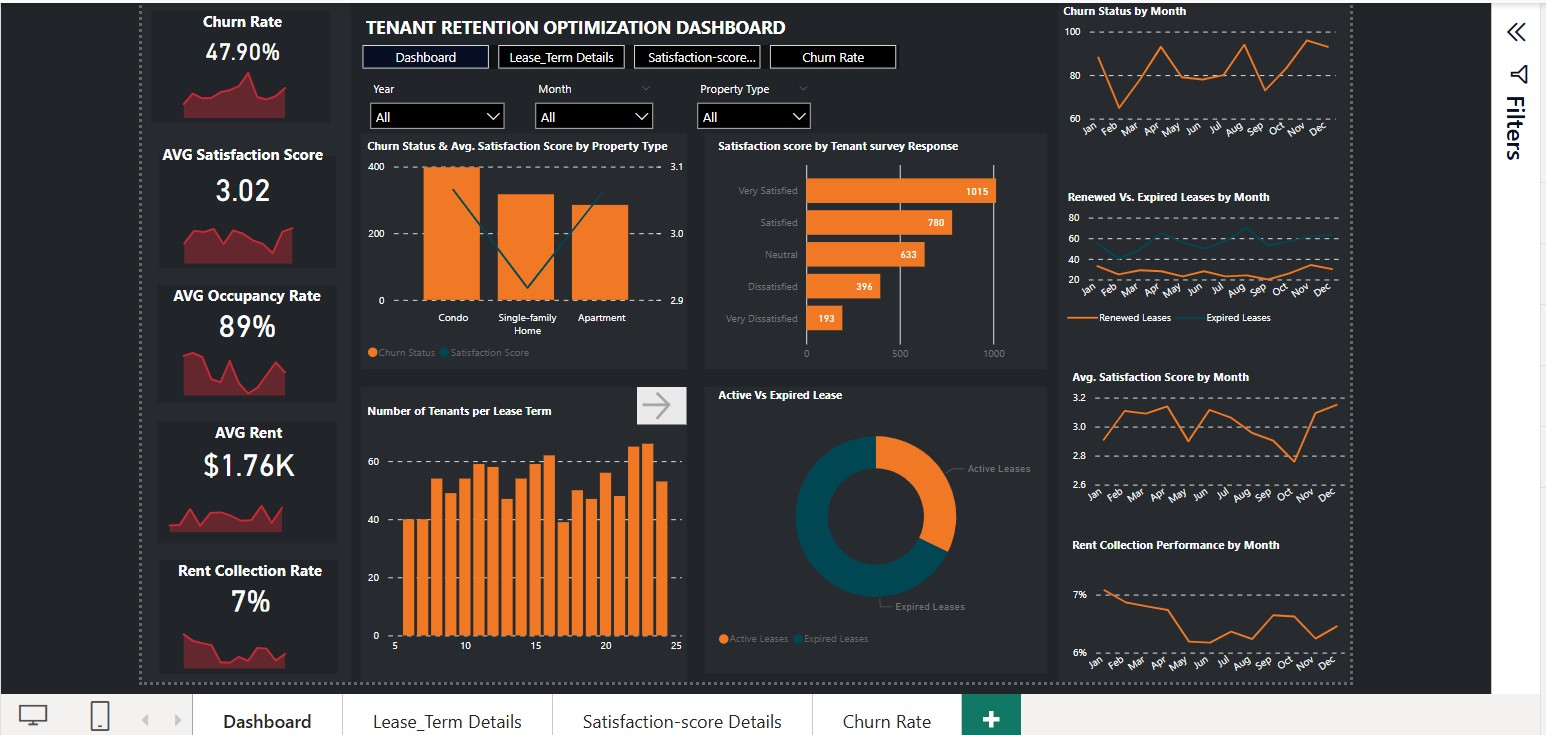

This screenshot's page, from the dashboard's own definition file:
{"tool":"powerbi","page":{"name":"Dashboard","canvas":[1280,720],"ordinal":0},"visuals":[{"type":"shape","box":[0,0,221.1,720.5],"z":0},{"type":"shape","box":[971.9,0,308.6,720.5],"z":1000},{"type":"shape","box":[232.2,407.2,345.2,313.4],"z":2000},{"type":"shape","box":[232.2,138.4,345.2,249.7],"z":3000},{"type":"shape","box":[596.5,138.4,362.7,249.7],"z":4000},{"type":"shape","box":[596.5,407.2,362.7,303.8],"z":5000},{"type":"textbox","box":[232.2,8,486.7,44.5],"z":6000},{"type":"pageNavigator","box":[233.8,44.5,569.4,25.4],"z":7000},{"type":"shape","box":[9.5,8,190.9,119.3],"z":8000},{"type":"shape","box":[18.2,162,188.4,119.5],"z":9000},{"type":"shape","box":[16.2,299.7,190.4,125.6],"z":10000},{"type":"shape","box":[16.2,443.5,190.4,129.6],"z":11000},{"type":"shape","box":[18.2,589.4,190.4,121.5],"z":12000},{"type":"card","title":"Churn Rate","fields":{"Values":["Measures Table.Churn Rate"]},"box":[12.7,8,187.7,63.6],"z":13000},{"type":"card","title":"AVG Satisfaction Score","fields":{"Values":["Measures Table.Average Satisfaction Score"]},"box":[12.7,149.5,187.7,71.6],"z":14000},{"type":"card","title":"AVG Occupancy Rate","fields":{"Values":["Avg(property_information.Historical Occupancy Rate Decimal)"]},"box":[17.5,299,187.7,60.4],"z":15000},{"type":"card","title":"AVG Rent","fields":{"Values":["Measures Table.AVG Rent"]},"box":[17.5,443.8,190.9,65.2],"z":16000},{"type":"card","title":"Rent Collection Rate","fields":{"Values":["Measures Table.Rent Collection Performance"]},"box":[19.1,590.1,190.9,60.4],"z":17000},{"type":"areaChart","fields":{"Y":["Measures Table.Churn Rate"],"Category":["Start Date.Month"]},"box":[19.1,57.3,176.6,70],"z":18000},{"type":"areaChart","fields":{"Category":["Start Date.Month"],"Y":["Measures Table.Average Satisfaction Score"]},"box":[19.1,221.1,186.1,60.4],"z":19000},{"type":"areaChart","fields":{"Y":["Measures Table.Current Occupancy Rate"],"Category":["Start Date.Month"]},"box":[19.1,351.5,176.6,70],"z":20000},{"type":"areaChart","fields":{"Category":["Start Date.Month"],"Y":["Measures Table.Rent Collection Performance"]},"box":[19.1,641,176.6,70],"z":21000},{"type":"areaChart","fields":{"Category":["Start Date.Month"],"Y":["Avg(lease_details.Rent Amount (USD))"]},"box":[3.2,505.8,192.5,60.4],"z":22000},{"type":"lineChart","title":"Churn Status by Month","fields":{"Y":["CountNonNull(lease_details.Churn Status)"],"Category":["Start Date.MonthName"]},"box":[971.9,0,299,154.3],"z":23000},{"type":"lineChart","title":"Renewed Vs. Expired Leases by Month","fields":{"Category":["Start Date.MonthName"],"Y":["Measures Table.Active Leases","lease_details.Churned Leases"]},"box":[976.6,197.2,299,154.3],"z":24000},{"type":"lineChart","title":"Avg. Satisfaction Score by Month","fields":{"Category":["Start Date.MonthName"],"Y":["Avg(tenant_information_and_feedback.Satisfaction Score)"]},"box":[981.4,388.1,299,154.3],"z":25000},{"type":"lineChart","title":"Rent Collection Performance by Month","fields":{"Category":["Start Date.MonthName"],"Y":["Measures Table.Rent Collection Performance"]},"box":[981.4,566.3,299,154.3],"z":26000},{"type":"lineStackedColumnComboChart","title":"Churn Status & Avg. Satisfaction Score by Property Type","fields":{"Y":["CountNonNull(lease_details.Churn Status)"],"Category":["property_information.Property Type"],"Y2":["Avg(tenant_information_and_feedback.Satisfaction Score)"]},"box":[233.8,143.2,345.2,245],"z":27000},{"type":"clusteredColumnChart","title":"Number of Tenants per Lease Term","fields":{"Category":["lease_details.Lease Term (Months)"],"Y":["CountNonNull(lease_details.Lease ID)"]},"box":[233.8,424.7,343.6,273.6],"z":28000},{"type":"donutChart","title":"Active Vs Expired Lease","fields":{"Y":["Sum(lease_details.IsActiveLease)","lease_details.Churned Leases"]},"box":[606,407.2,343.6,284.7],"z":29000},{"type":"clusteredBarChart","title":"Satisfaction score by Tenant survey Response","fields":{"Category":["tenant_information_and_feedback.Survey Response"],"Y":["Sum(tenant_information_and_feedback.Satisfaction Score)"]},"box":[606,143.2,343.6,245],"z":30000},{"type":"actionButton","box":[524.9,407.2,52.5,39.8],"z":31000},{"type":"slicer","title":"Churn Status by Month","fields":{"Values":["Start Date.MonthName"]},"box":[407.2,77.9,144.7,60.4],"z":32000},{"type":"slicer","title":"Churn Status by Month","fields":{"Values":["Start Date.Year"]},"box":[232.2,77.9,162.2,60.4],"z":33000},{"type":"slicer","title":"Churn Status by Month","fields":{"Values":["property_information.Property Type"]},"box":[579,77.9,140,60.4],"z":34000}]}

Visuals, with their boxes on the page's 1280x720 design canvas (x1, y1, x2, y2). These are canvas units, not pixel positions in the 1546x735 screenshot, which may show the page scaled, cropped or inside an application window:
shape: box=[0, 0, 221, 720]
shape: box=[972, 0, 1280, 720]
shape: box=[232, 407, 577, 721]
shape: box=[232, 138, 577, 388]
shape: box=[596, 138, 959, 388]
shape: box=[596, 407, 959, 711]
textbox: box=[232, 8, 719, 52]
pageNavigator: box=[234, 44, 803, 70]
shape: box=[10, 8, 200, 127]
shape: box=[18, 162, 207, 282]
shape: box=[16, 300, 207, 425]
shape: box=[16, 444, 207, 573]
shape: box=[18, 589, 209, 711]
"Churn Rate" card: box=[13, 8, 200, 72]
"AVG Satisfaction Score" card: box=[13, 150, 200, 221]
"AVG Occupancy Rate" card: box=[18, 299, 205, 359]
"AVG Rent" card: box=[18, 444, 208, 509]
"Rent Collection Rate" card: box=[19, 590, 210, 650]
areaChart - Measures Table.Churn Rate x Start Date.Month: box=[19, 57, 196, 127]
areaChart - Start Date.Month x Measures Table.Average Satisfaction Score: box=[19, 221, 205, 282]
areaChart - Measures Table.Current Occupancy Rate x Start Date.Month: box=[19, 352, 196, 422]
areaChart - Start Date.Month x Measures Table.Rent Collection Performance: box=[19, 641, 196, 711]
areaChart - Start Date.Month x Avg(lease_details.Rent Amount (USD)): box=[3, 506, 196, 566]
"Churn Status by Month" lineChart: box=[972, 0, 1271, 154]
"Renewed Vs. Expired Leases by Month" lineChart: box=[977, 197, 1276, 352]
"Avg. Satisfaction Score by Month" lineChart: box=[981, 388, 1280, 542]
"Rent Collection Performance by Month" lineChart: box=[981, 566, 1280, 721]
"Churn Status & Avg. Satisfaction Score by Property Type" lineStackedColumnComboChart: box=[234, 143, 579, 388]
"Number of Tenants per Lease Term" clusteredColumnChart: box=[234, 425, 577, 698]
"Active Vs Expired Lease" donutChart: box=[606, 407, 950, 692]
"Satisfaction score by Tenant survey Response" clusteredBarChart: box=[606, 143, 950, 388]
actionButton: box=[525, 407, 577, 447]
"Churn Status by Month" slicer: box=[407, 78, 552, 138]
"Churn Status by Month" slicer: box=[232, 78, 394, 138]
"Churn Status by Month" slicer: box=[579, 78, 719, 138]
